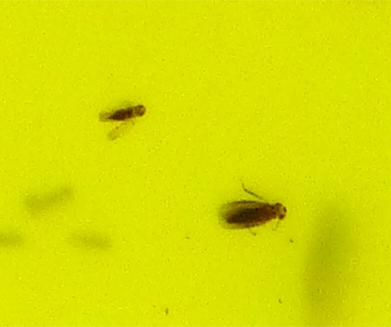Hemiptera: (218, 195, 291, 227), (100, 100, 148, 123)
